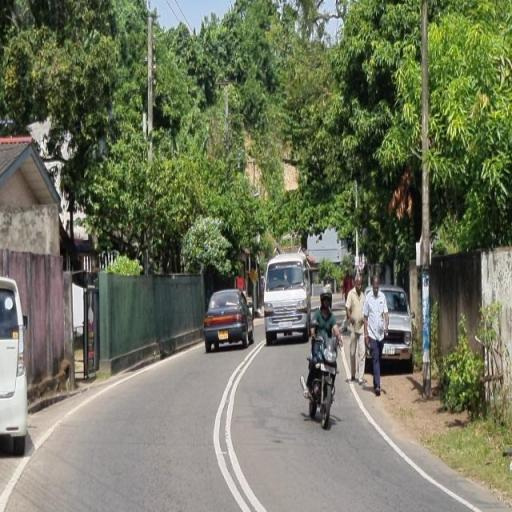double_white_line: (212, 337, 266, 512)
